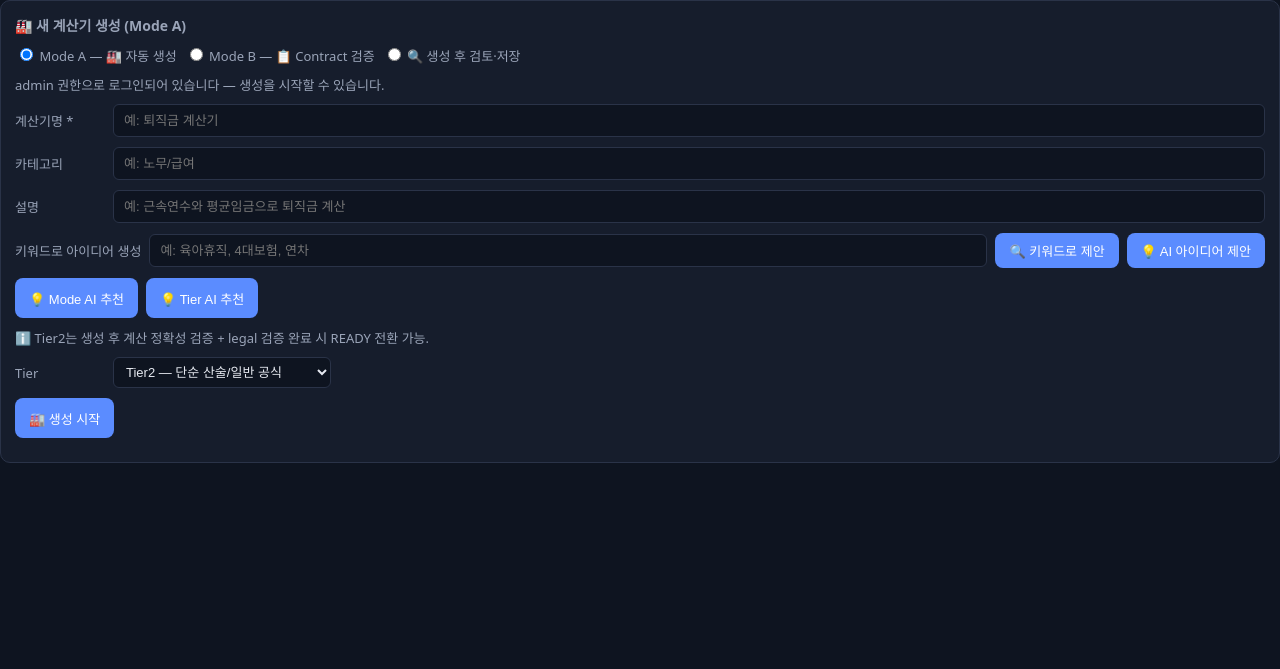
App Factory 기본 정보 AI 보조 › Tier2-B 추천은 신뢰도와 무관하게 Mode B Tier를 Tier2-B로 반영한다
The width and height of the screenshot is (1280, 669).
Click the radio button labelled "Mode B — 📋 Contract 검증".
click(196, 54)  # box [190, 48, 203, 61]
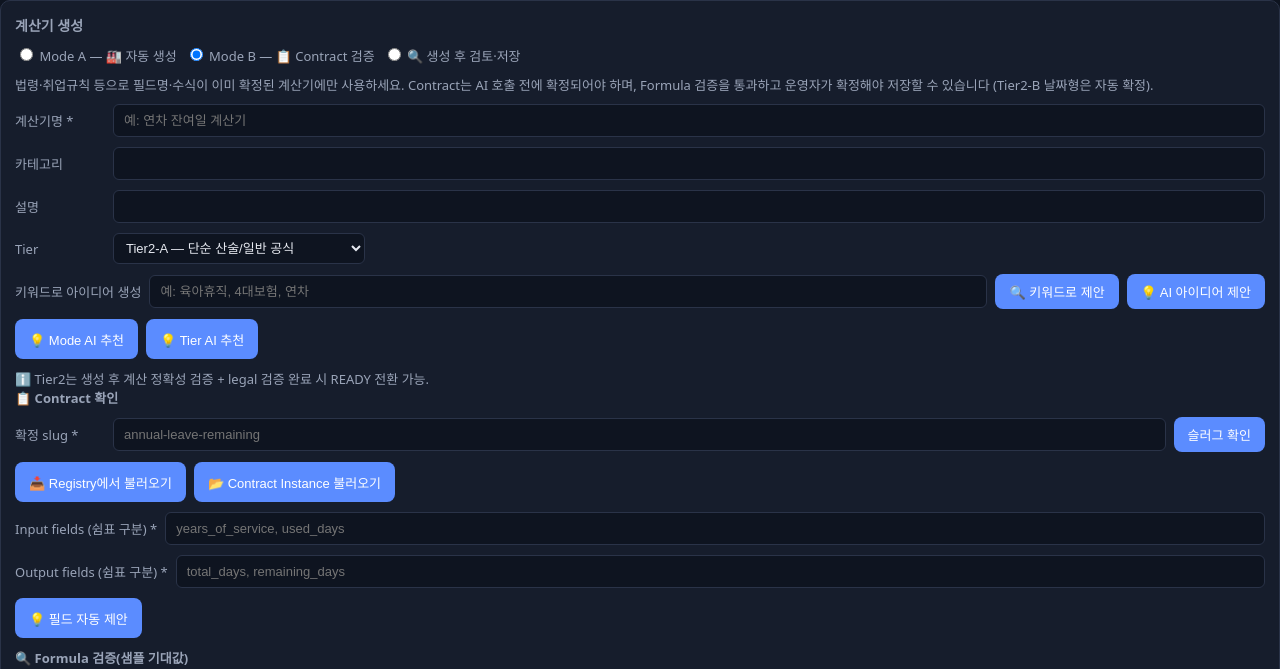
Expected: the field labelled "계산기명 *" is shown
Type "전역일 계산기" into the field labelled "계산기명 *".
click(689, 120); type("전역일 계산기")  # box [113, 104, 1265, 137]
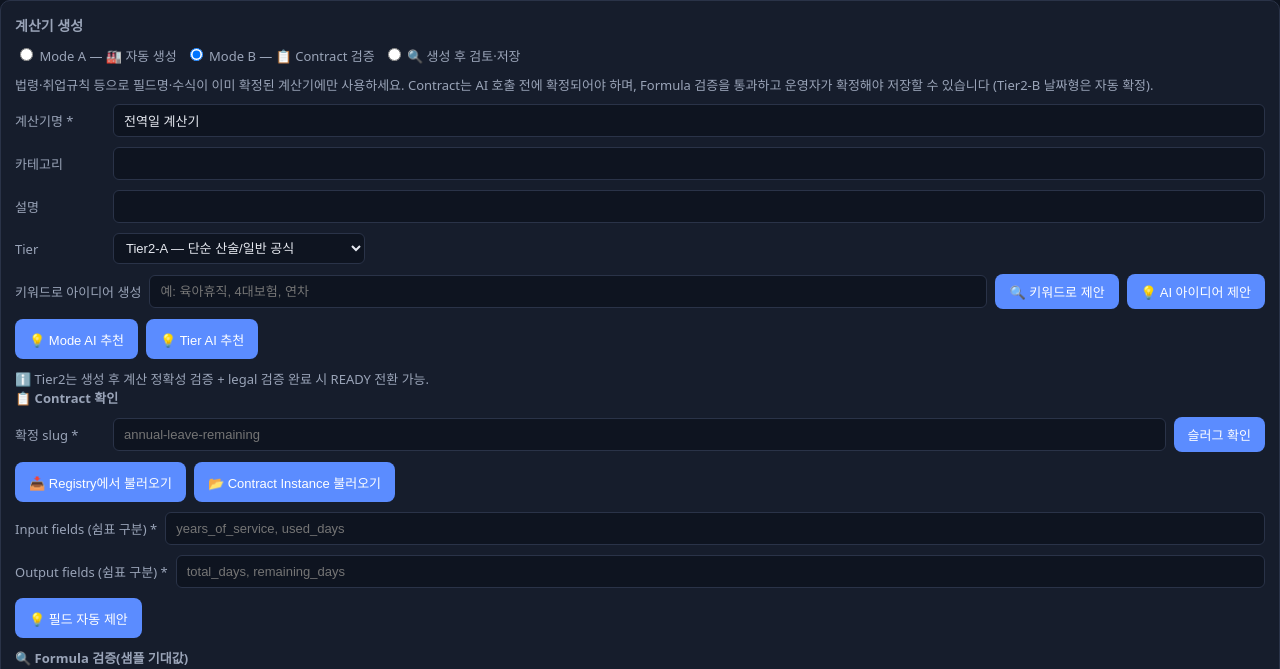
Click the button "💡 Tier AI 추천".
click(202, 339)  # box [146, 319, 258, 359]
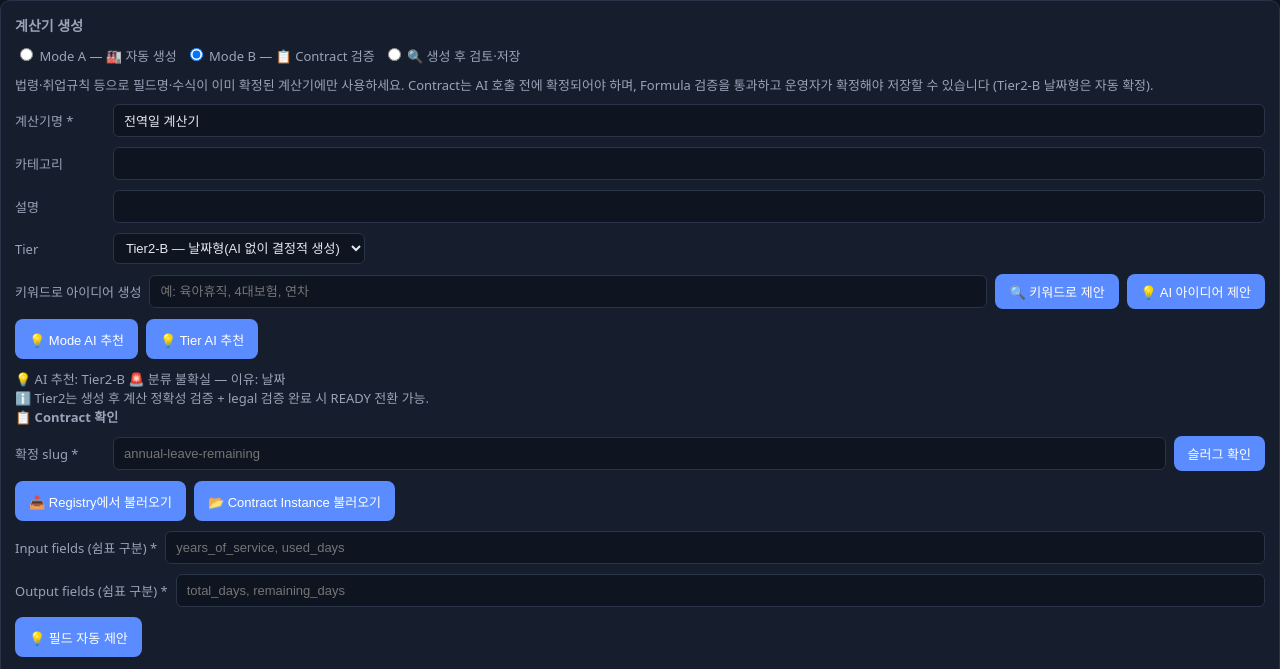
Expected: the text "💡 AI 추천: Tier2-B 🚨 분류 불확실 — 이유: 날짜" is shown, [15, 370, 286, 388]
Expected: the dropdown labelled "Tier" shows "Tier2-B — 날짜형(AI 없이 결정적 생성)", [113, 233, 365, 264]
